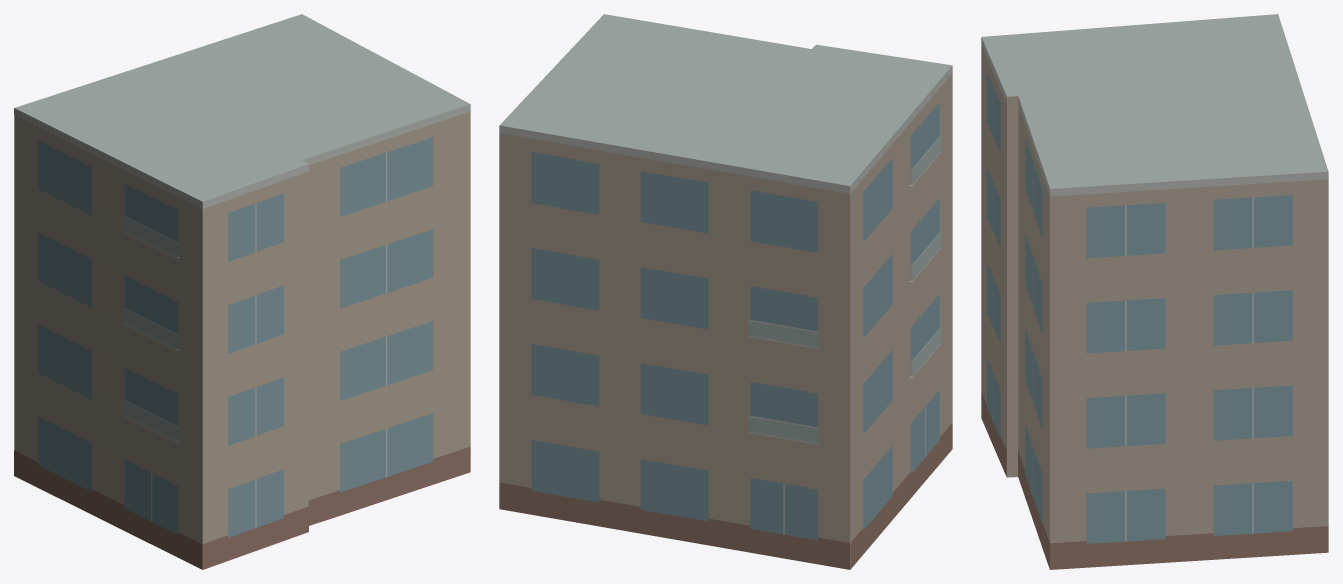
Rendered from survey-upis-32585636.glb.
3 views of the same model, side by side, from view 1: azimuth 30°, elevation 25°; view 2: azimuth 150°, elevation 25°; view 3: azimuth 270°, elevation 25° (orthographic). The views are drawn at different scales.
Parts seen in each view (by area): view 1: survey-upis-32585636.tmp; view 2: survey-upis-32585636.tmp; view 3: survey-upis-32585636.tmp.
Part boxes in pixels (x1,y1,x2,y2): survey-upis-32585636.tmp: (14, 14, 470, 569); survey-upis-32585636.tmp: (499, 14, 952, 569); survey-upis-32585636.tmp: (981, 14, 1328, 569).
Size of the model in its own units: 12.02 by 12.2 by 10.09.
